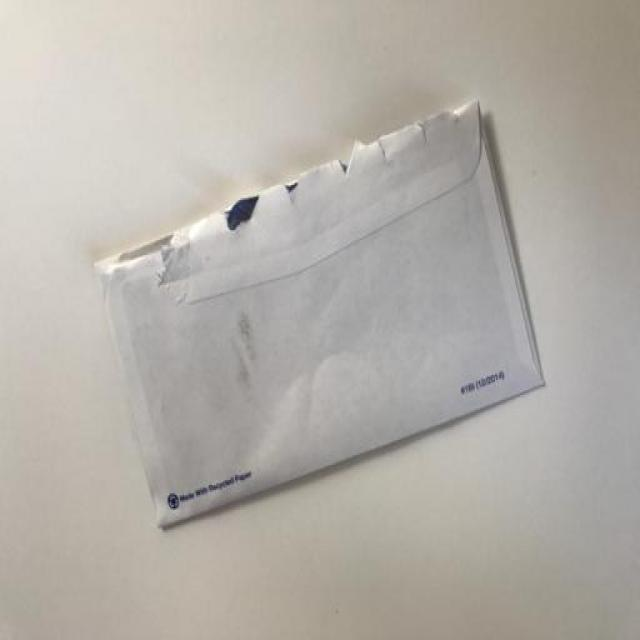paper: (58, 94, 580, 547)
